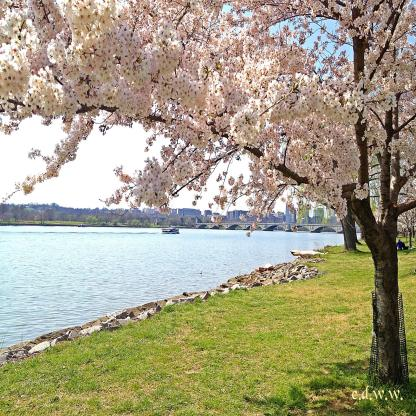Someiyoshino: (1, 2, 416, 248)
